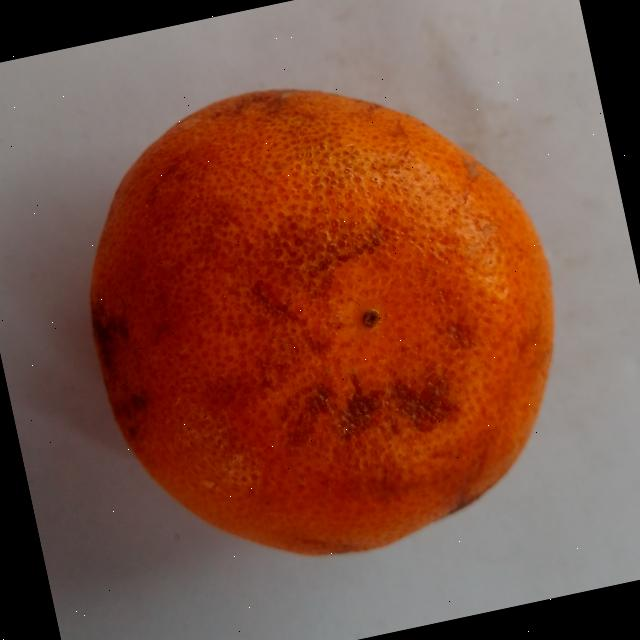overripe: (45, 30, 604, 603)
